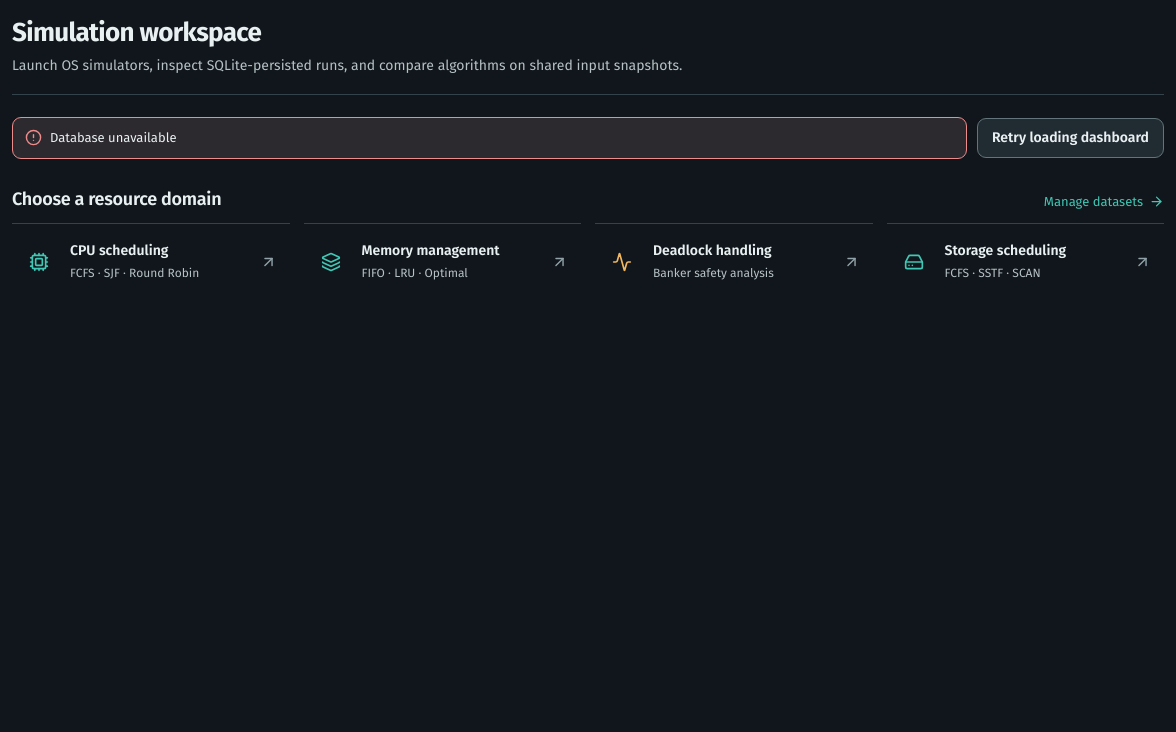
Test: dashboard data states › shows an error and retry action instead of false zero counts or empty activity
This screenshot has width=1176, height=732.
Check: the message reads "Database unavailable", box [50,130,176,145]
Check: the text "No activity recorded" is not shown
Click the button "Retry loading dashboard": (1070, 138) [977,118,1164,158]
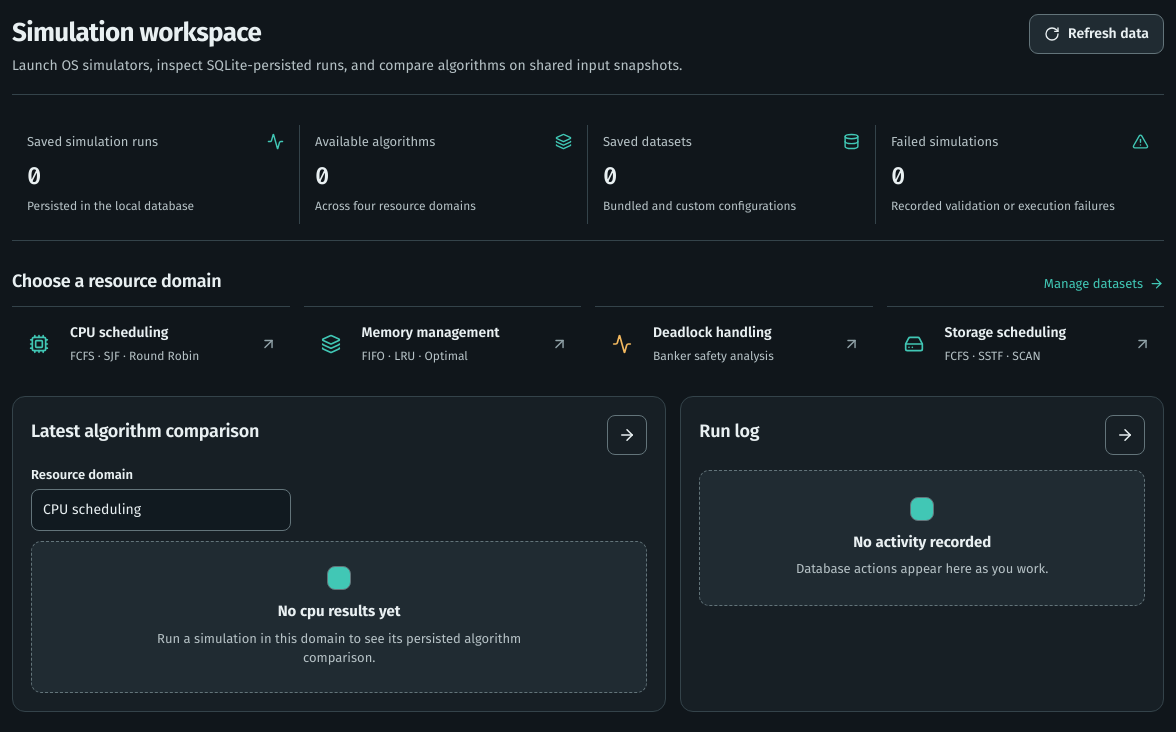
Check: the text "No activity recorded" is shown, box [853,531,991,553]
